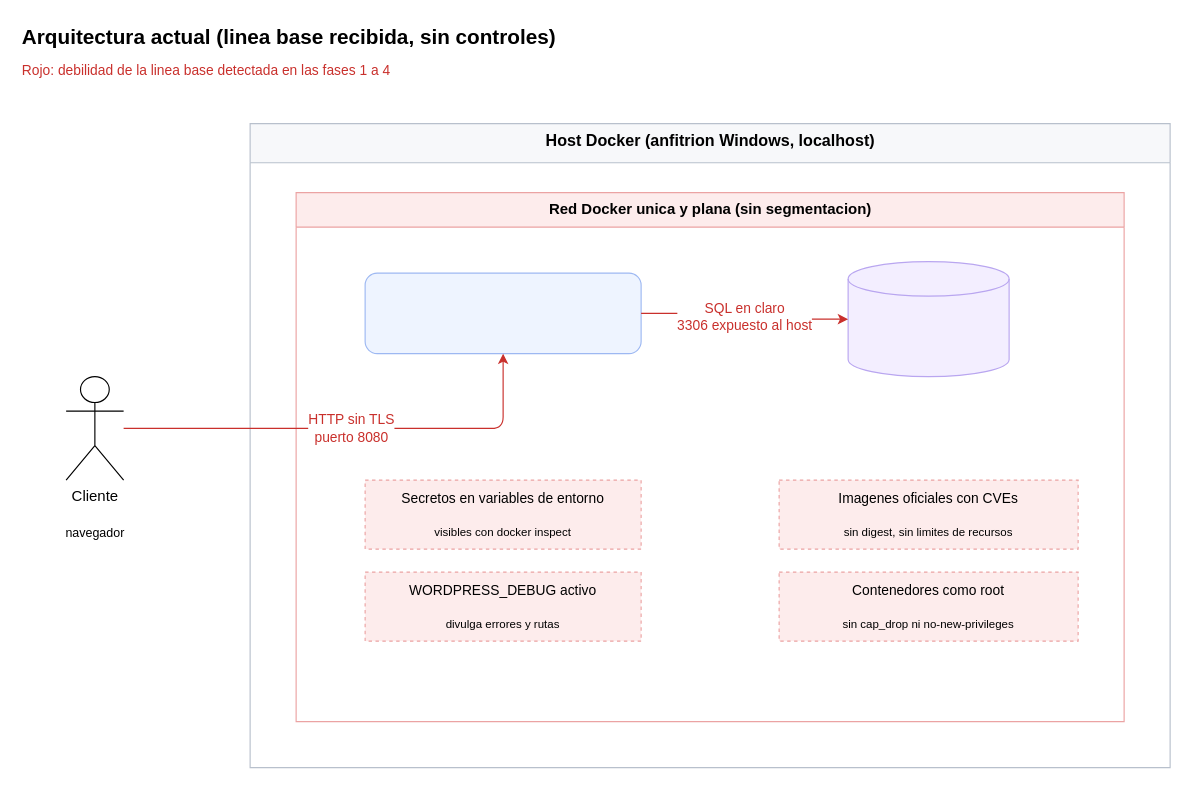
Some shapes in this 1190 by 788 pixel diagram are drawn without their labels. Here are the shapes that lost their labels. From the top down, the centre of each, then its label:
At (x=502, y=313): "WordPress + WooCommerce Apache 2.4 · PHP 8.3 · contenedor".
At (x=928, y=318): "MySQL 8.4 datos de la tienda".
